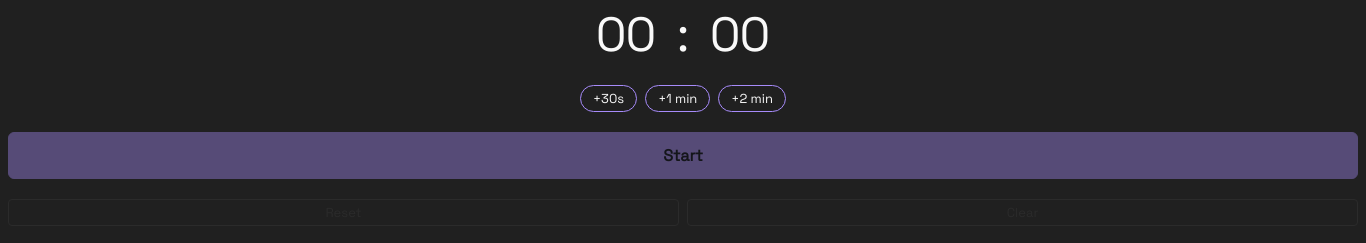
Test: TimerControls › pill buttons › enables Start, Reset, and Clear after adding time via pill
Click the button "+30s": (609, 98) [580,85,637,112]
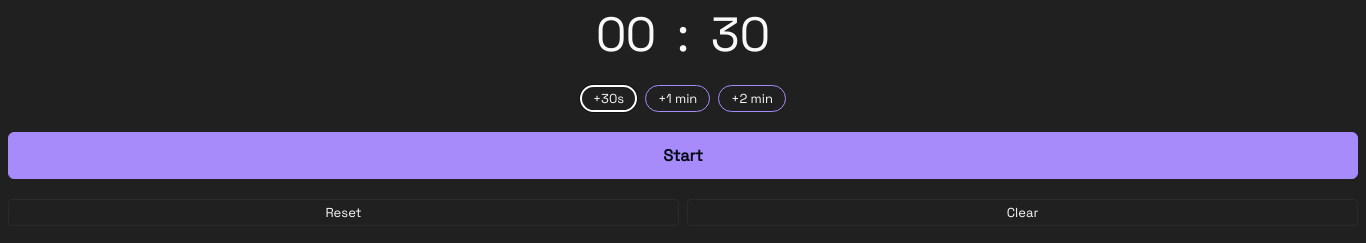
Expected: the button "Start" is enabled, [8,132,1358,179]
Expected: the button "Reset" is enabled, [8,199,679,226]
Expected: the button "Clear" is enabled, [687,199,1358,226]
